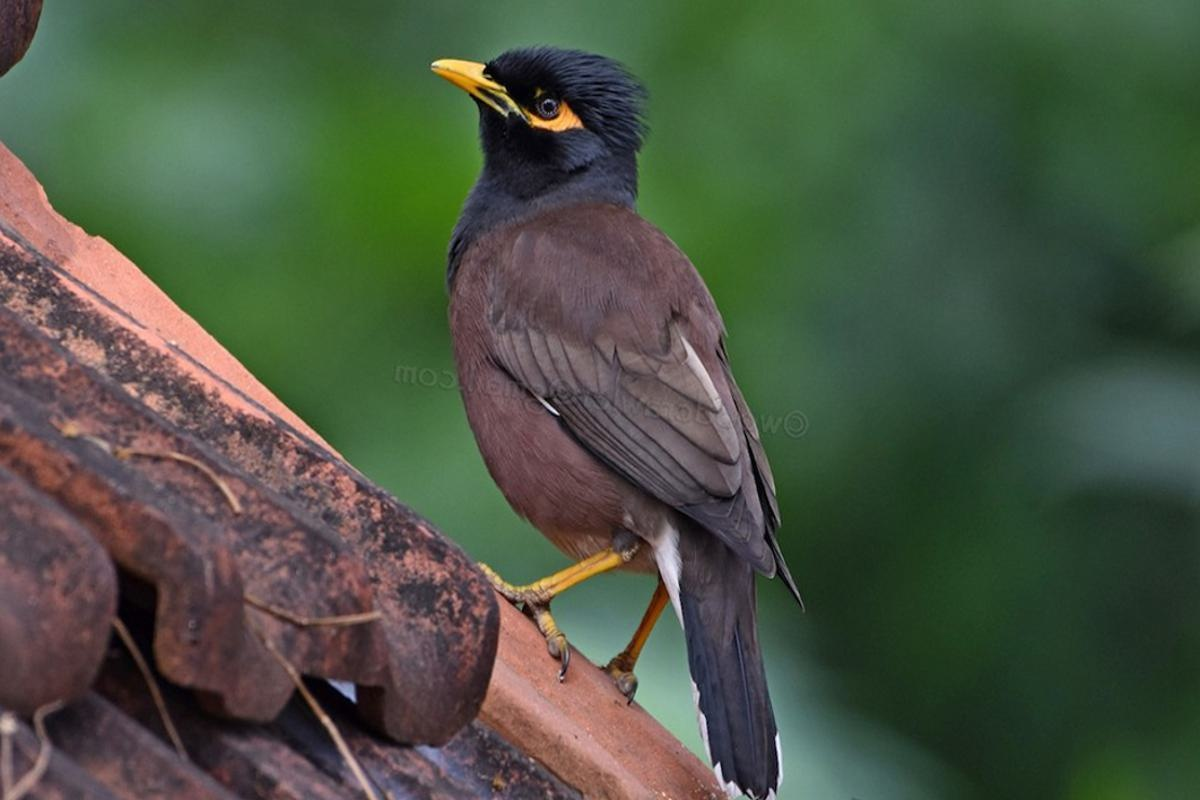myna: (424, 25, 867, 796)
